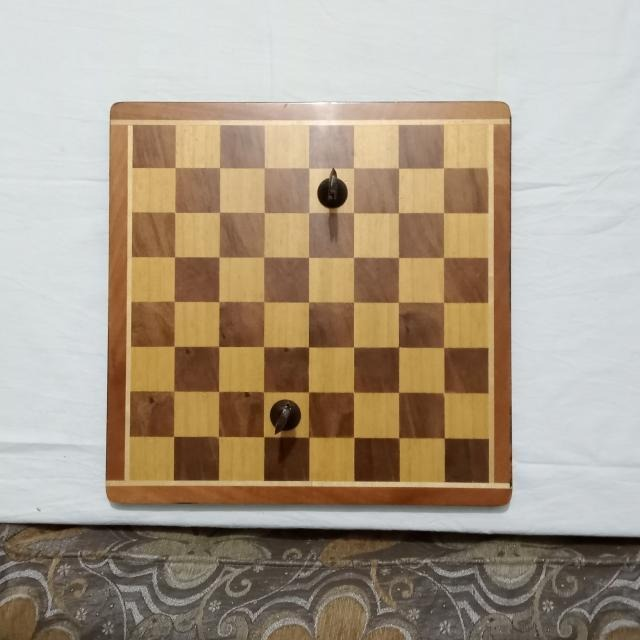black-knight: (317, 169, 351, 211), (266, 396, 301, 436)
